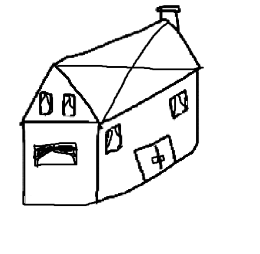chimney: (156, 4, 181, 32)
door: (133, 133, 178, 183)
open_window: (33, 142, 77, 166), (105, 122, 123, 155), (60, 90, 79, 120), (169, 90, 188, 119), (36, 89, 54, 119)
roof: (21, 18, 201, 124)
wall: (19, 116, 102, 211)
